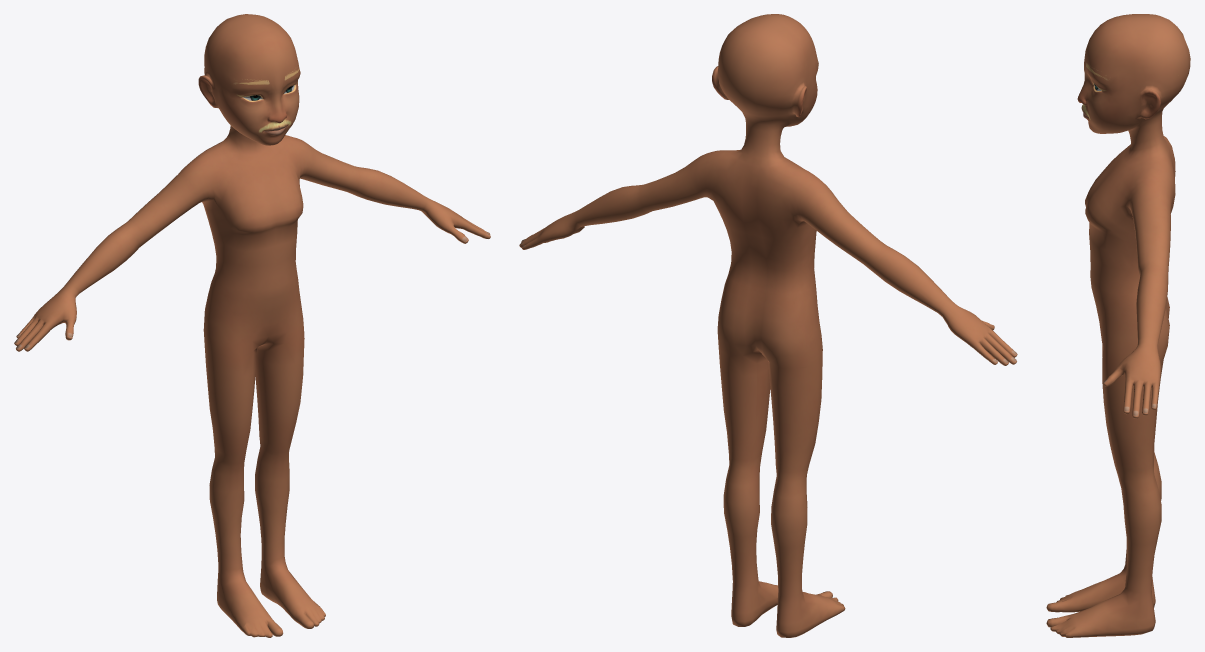
Rendered from frame_0048.glb.
The picture shows the model from 3 angles, left to right: view 1: azimuth 30°, elevation 25°; view 2: azimuth 150°, elevation 25°; view 3: azimuth 270°, elevation 25°; orthographic projection. The views are drawn at different scales.
Visible parts, largest first — view 1: frame_0048_head_geo; view 2: frame_0048_head_geo; view 3: frame_0048_head_geo.
Part boxes in pixels (x1=…): frame_0048_head_geo: x1=14, y1=14, x2=490, y2=637; frame_0048_head_geo: x1=519, y1=14, x2=1017, y2=637; frame_0048_head_geo: x1=1046, y1=14, x2=1190, y2=637.
Bounding box in the file's own units: 1.28 × 1.5 × 0.3253.
3 materials, 3 textured.
